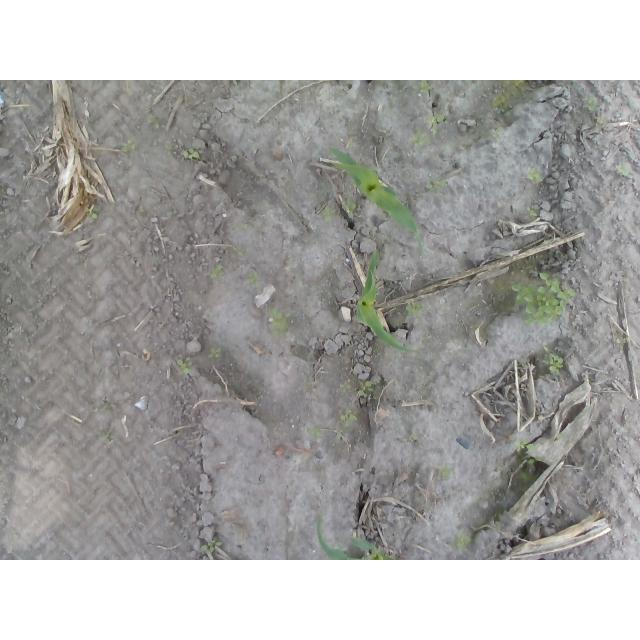Maize: (324, 144, 424, 257), (357, 252, 424, 353), (317, 509, 392, 560)
Weeds: (512, 272, 573, 327), (268, 309, 293, 339), (546, 354, 566, 375), (338, 408, 358, 429), (427, 113, 444, 137), (355, 378, 374, 398), (242, 269, 262, 288), (177, 358, 196, 376), (410, 130, 431, 146), (522, 169, 544, 184), (513, 441, 535, 455), (200, 541, 222, 555), (344, 197, 357, 220), (454, 532, 471, 549), (321, 204, 335, 224), (434, 462, 450, 479), (306, 423, 323, 439), (586, 101, 602, 116), (101, 431, 116, 446), (147, 112, 161, 128), (118, 141, 135, 154), (426, 181, 446, 192), (618, 165, 632, 180), (415, 83, 433, 94), (90, 207, 103, 222), (616, 331, 628, 345), (207, 348, 221, 360), (97, 403, 111, 414), (184, 152, 201, 161), (492, 127, 505, 138), (213, 263, 223, 277), (524, 457, 536, 468), (340, 381, 352, 392), (238, 222, 252, 230), (527, 207, 537, 217), (236, 246, 245, 255), (556, 434, 560, 443)
